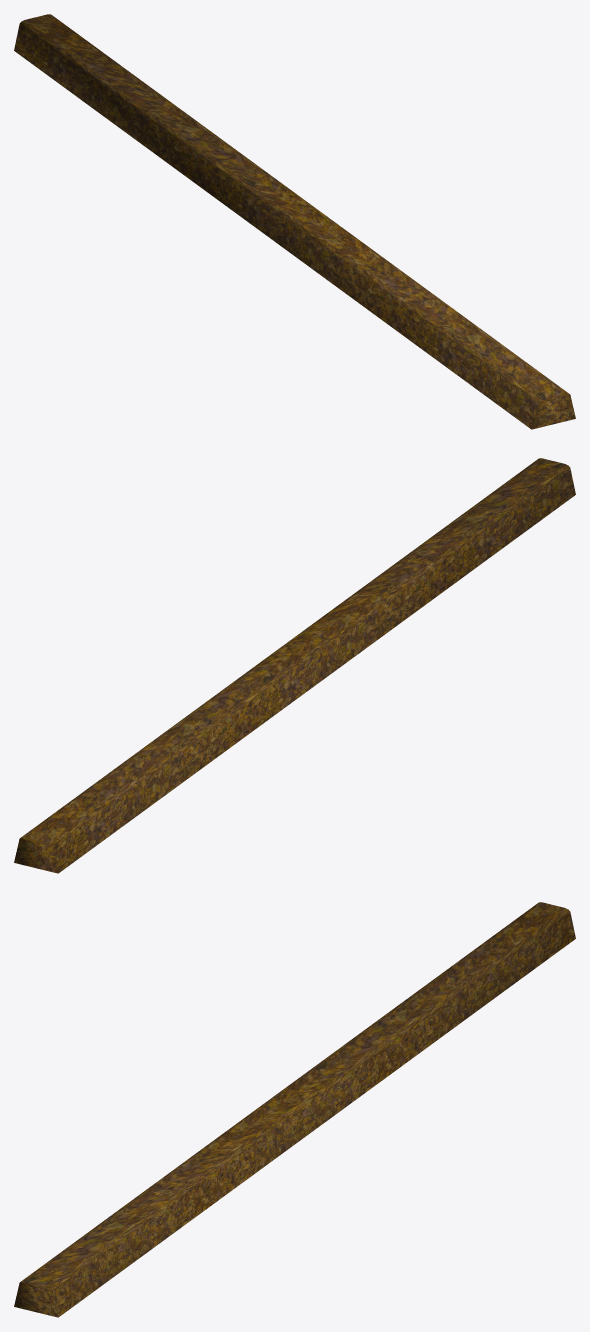
Rendered from E3_suelo13.fbx.
3 renders of one model, top to bottom at view 1: azimuth 30°, elevation 25°; view 2: azimuth 150°, elevation 25°; view 3: azimuth 330°, elevation 25°, orthographic.
Parts seen in each view (by area): view 1: Cube.046; view 2: Cube.046; view 3: Cube.046.
Part boxes in pixels (box(x1,y1,x2,y2)): Cube.046: box(14, 14, 575, 429); Cube.046: box(14, 458, 575, 873); Cube.046: box(14, 902, 575, 1317).
Bounding box in the file's own units: 143 × 87.02 × 2894.
Materials: 1 (1 with a texture image).
